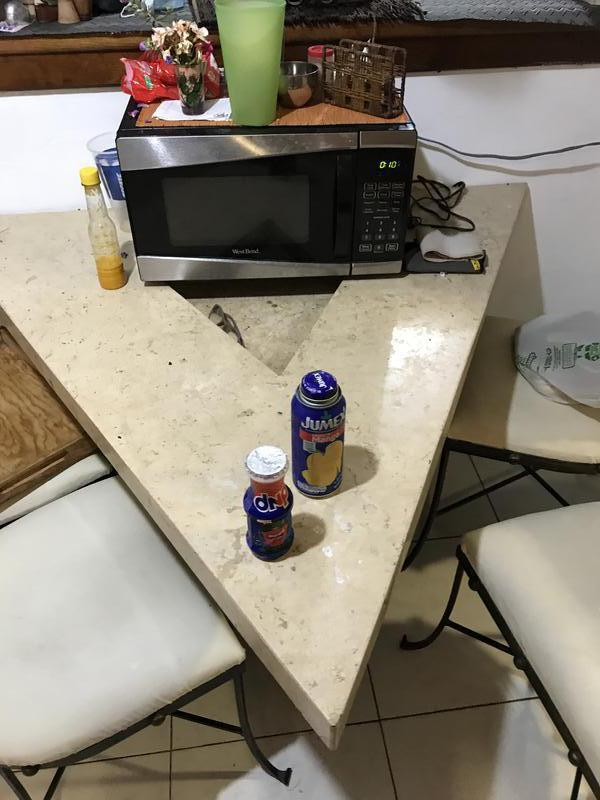danup: (244, 449, 296, 563)
jugo_jumex: (290, 370, 345, 497)
